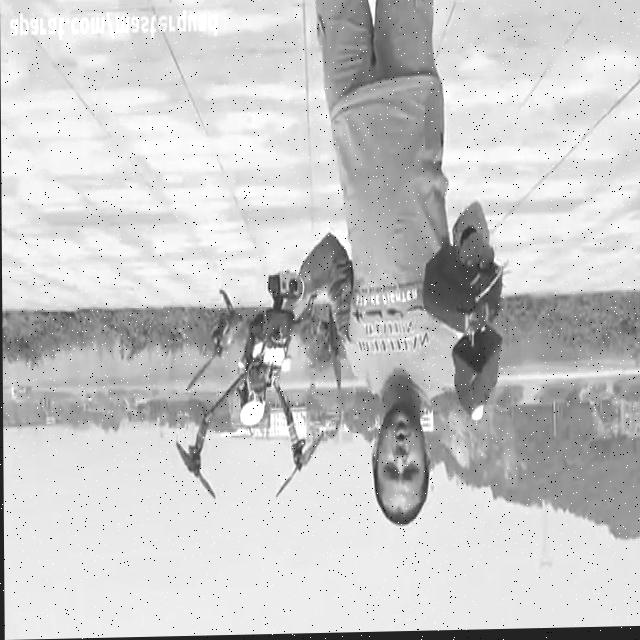drone: (172, 275, 343, 509)
